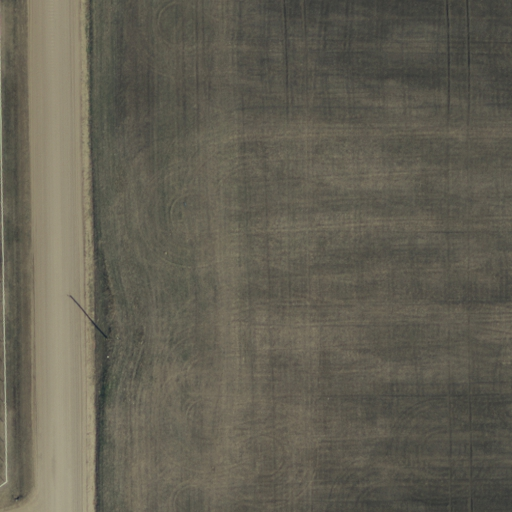DT: (100, 330, 120, 348)
